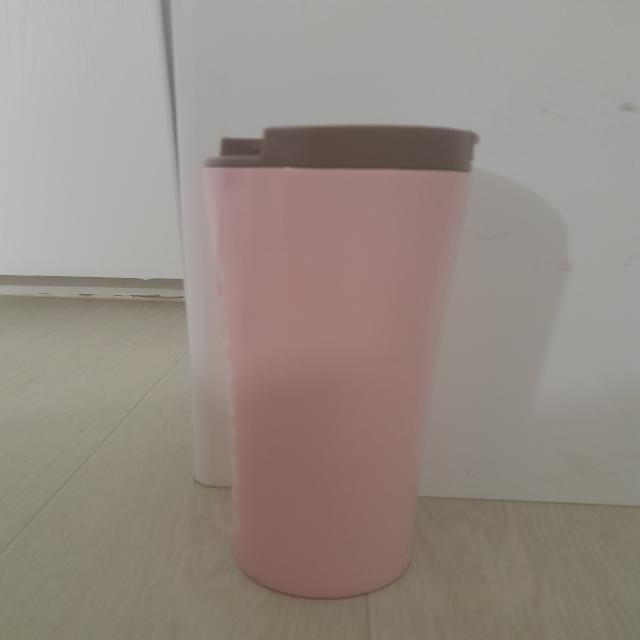waterbottle: (208, 126, 480, 598)
